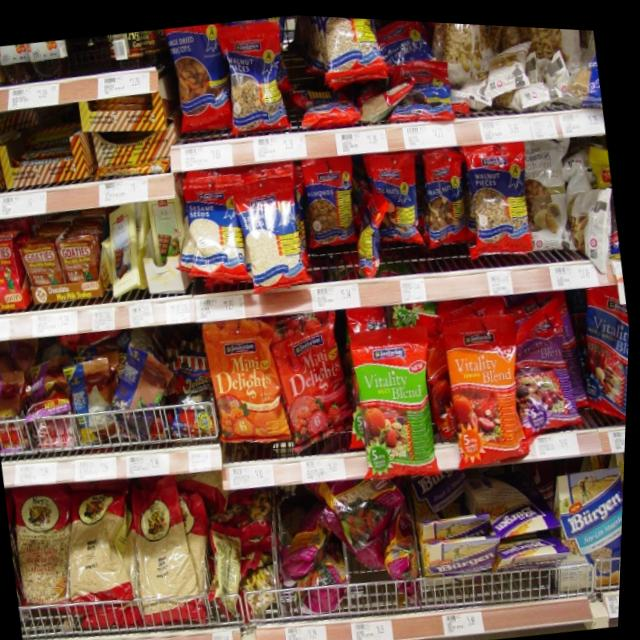q274: (345, 320, 449, 480)
